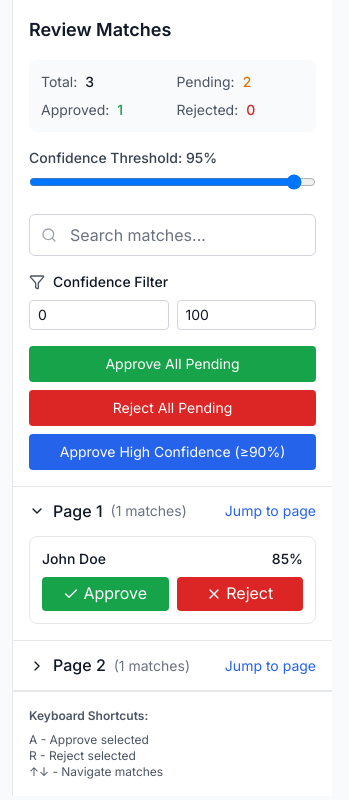
Test: MatchReviewSidebar › shows original text when different from matched text
Note: Expand page 2
What coordinates should you click on to do the following:
click the text "Page 2"
I would click on:
 (79, 666)
Its box is [53,653,106,678].
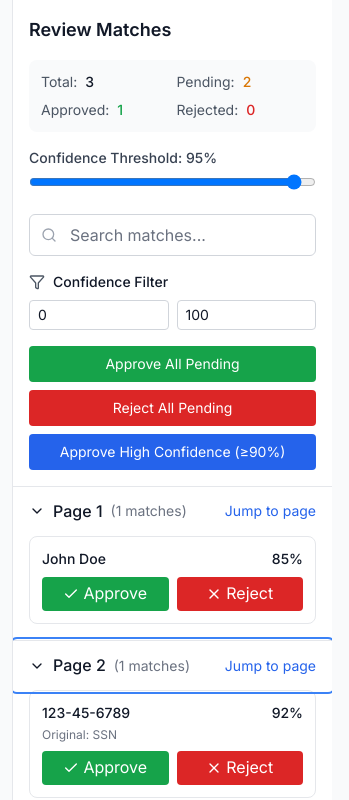
Now the text "123-45-6789" is shown, box [42,704,130,721]
Now the text "Original: SSN" is shown, box [42,727,117,742]
